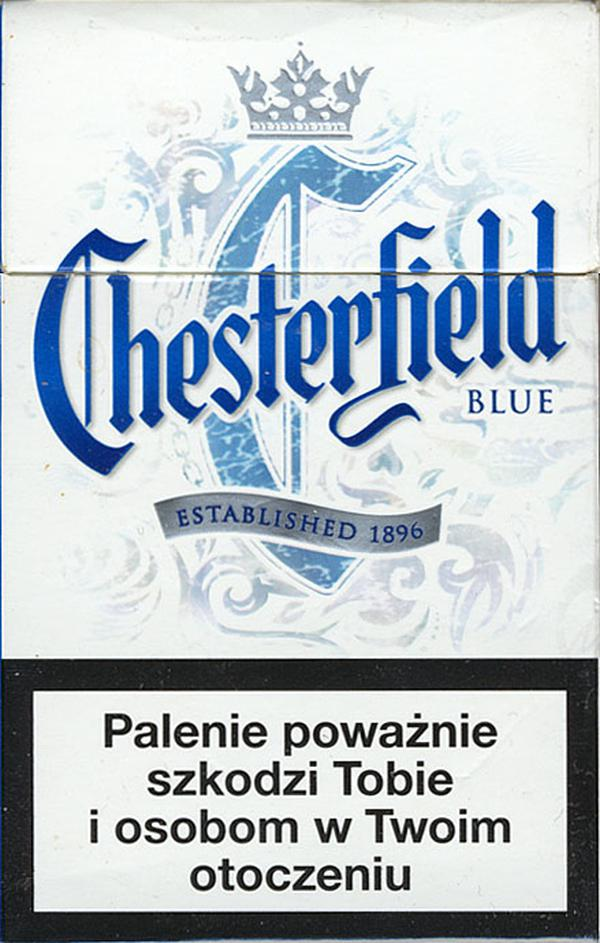chesterfield_blue: (3, 1, 600, 942)
